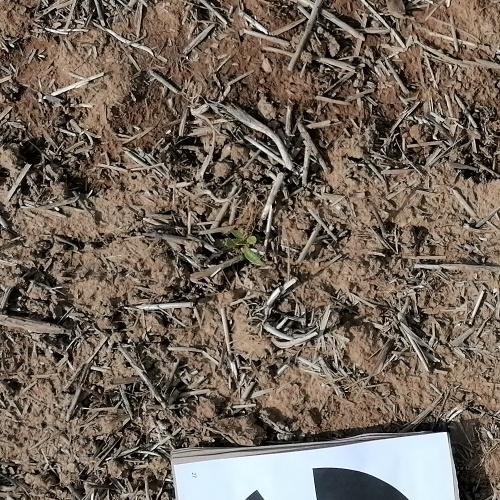beet: (224, 228, 265, 269)
